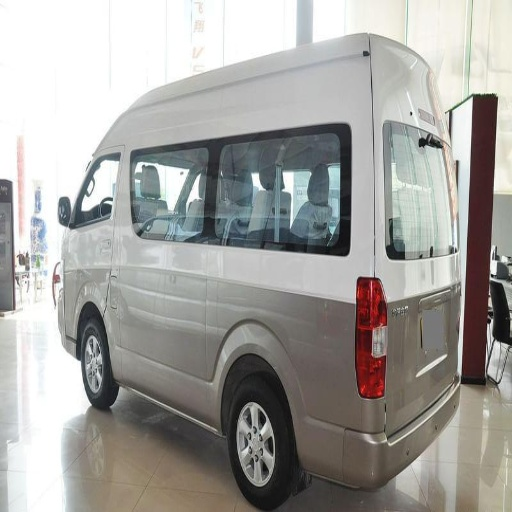back_bumper: (303, 399, 452, 506)
back_left_light: (356, 280, 385, 349)
front_left_door: (117, 224, 175, 377)
trunk: (182, 248, 448, 445), (256, 57, 369, 137)
